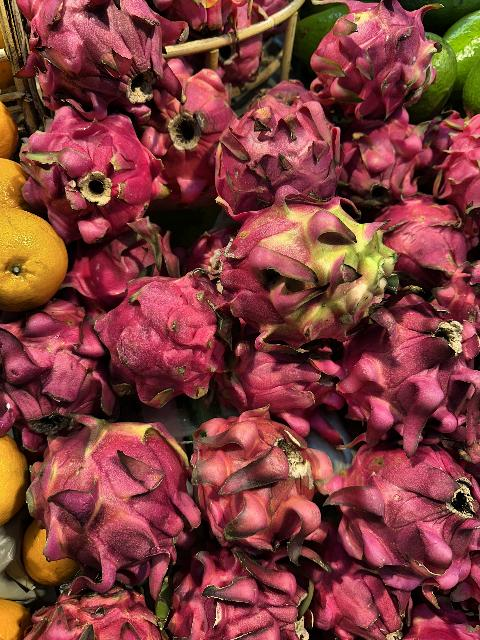buah-naga-belum-matang: (209, 194, 403, 344), (36, 424, 204, 586)
buah-naga-matang: (319, 430, 473, 580), (13, 97, 166, 239), (7, 0, 185, 104), (344, 302, 478, 431), (90, 274, 226, 394), (200, 414, 318, 550), (312, 0, 440, 120), (0, 299, 112, 435), (225, 86, 347, 202), (172, 544, 318, 640), (137, 65, 237, 201), (368, 185, 476, 292), (336, 107, 432, 205), (40, 576, 163, 640)
